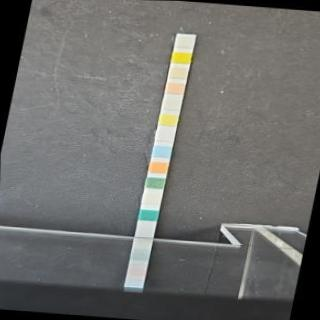mark: (166, 80, 184, 94), (172, 50, 190, 64), (160, 112, 177, 126), (149, 160, 167, 173), (162, 98, 180, 110), (168, 66, 186, 78), (175, 36, 193, 48), (143, 193, 160, 205), (146, 176, 163, 188), (153, 144, 170, 156), (156, 128, 172, 140), (139, 210, 157, 220)
